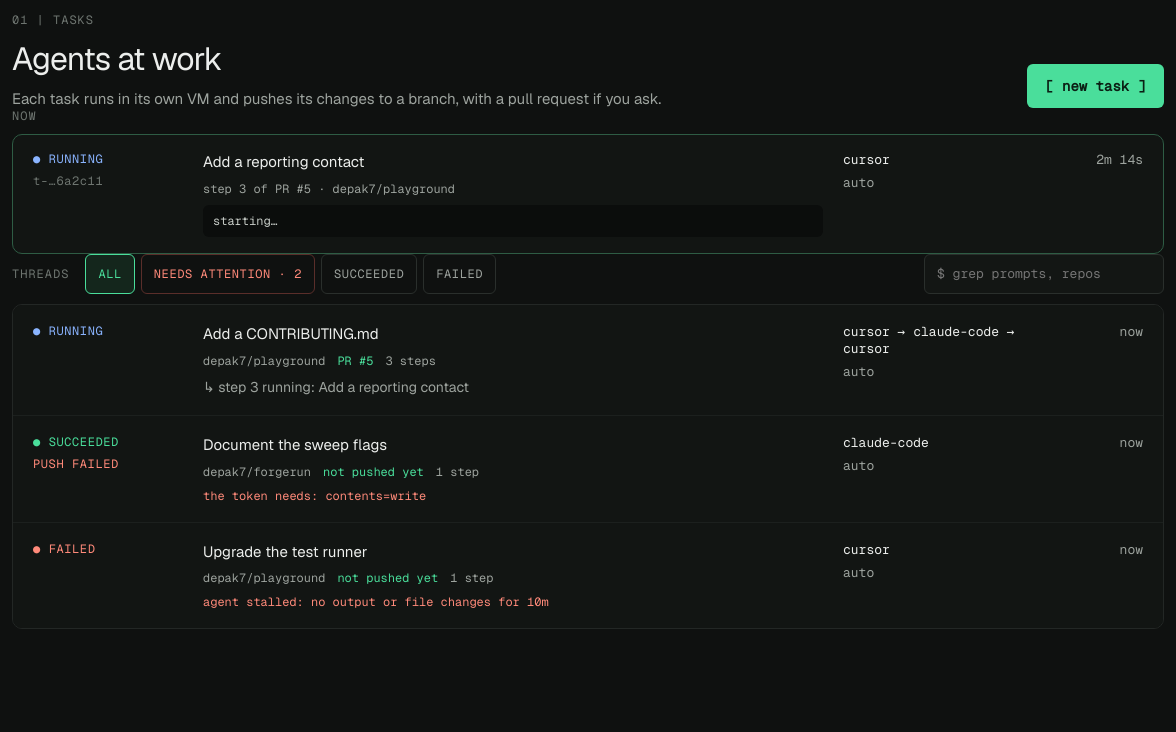
TasksPage › flags threads that need attention and filters to them
expect the text "PUSH FAILED" is shown: met, box [33,456,119,472]
expect the text "the token needs: contents=write" is shown: met, box [203,488,426,504]
Click the button "NEEDS ATTENTION · 2".
click(228, 274)  # box [141,254,315,294]
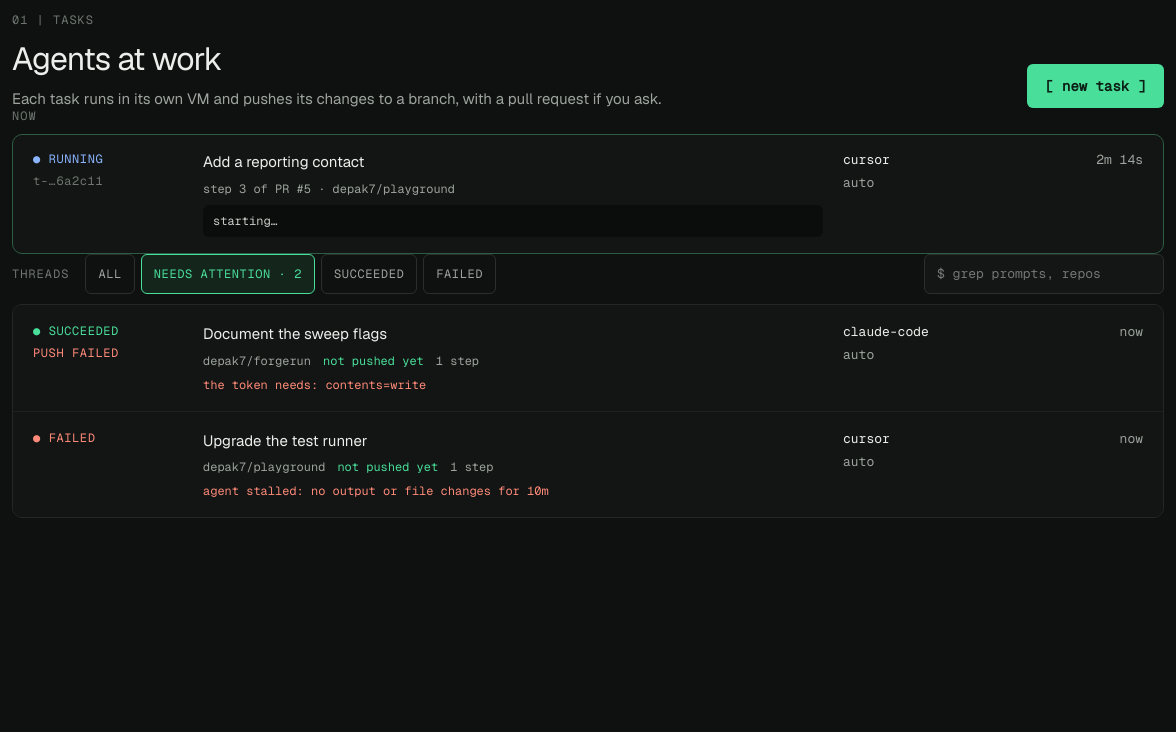
expect the text "Document the sweep flags" is shown: met, box [203,324,387,343]
expect the link "Add a CONTRIBUTING.md" is gone: met
